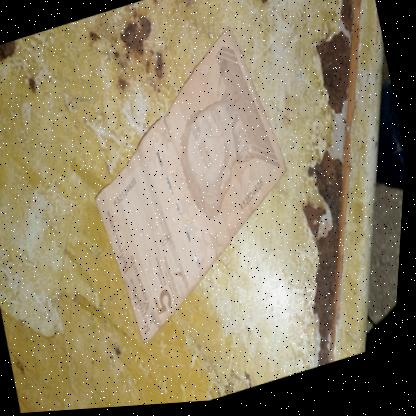five-front-vef: (58, 16, 326, 355)
